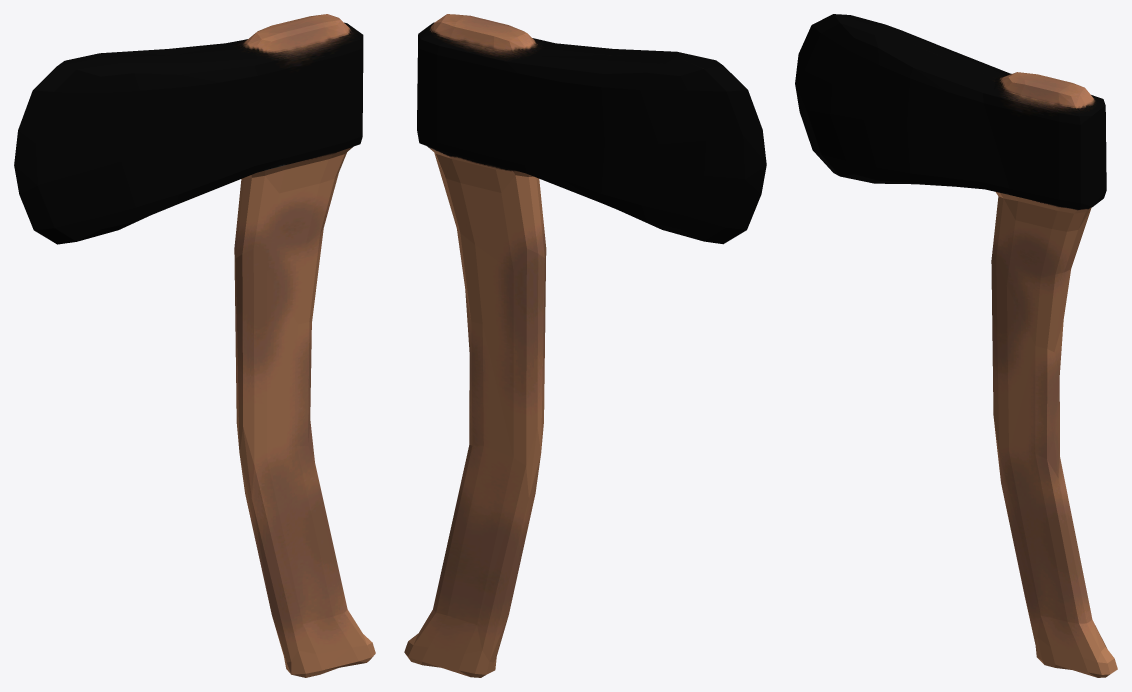
Rendered from axe.fbx.
3 renders of one model, left to right at view 1: azimuth 30°, elevation 25°; view 2: azimuth 150°, elevation 25°; view 3: azimuth 330°, elevation 25°, orthographic. The views are drawn at different scales.
Visible parts, largest first — view 1: node_id4; view 2: node_id4; view 3: node_id4.
Boxes of the visible parts, x1,y1,x2,y2 form: node_id4: (14,14,375,677); node_id4: (404,14,766,677); node_id4: (795,14,1117,677).
Size of the model in its own units: 0.1472 by 0.2615 by 0.0257.
Materials: 1 (1 with a texture image).
